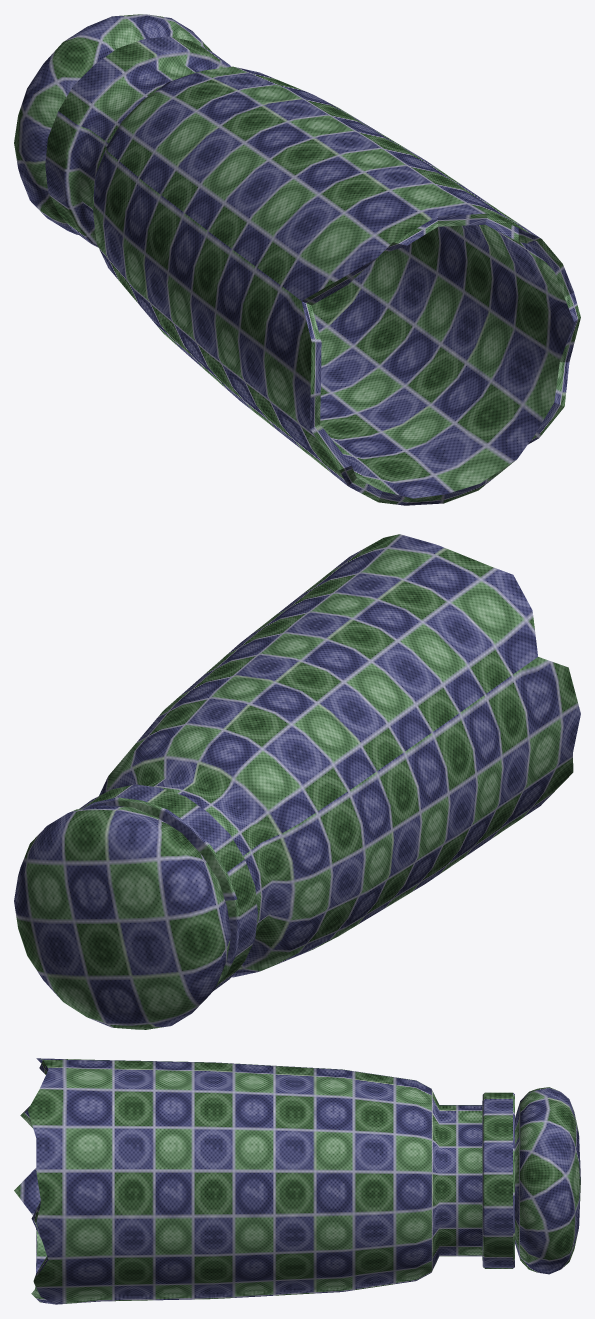
File: Bottiglia.FBX
The picture shows the model from 3 angles, top to bottom: view 1: azimuth 30°, elevation 25°; view 2: azimuth 150°, elevation 25°; view 3: azimuth 270°, elevation 25°; orthographic projection. The views are drawn at different scales.
Visible parts, largest first — view 1: pCylinder004; view 2: pCylinder004; view 3: pCylinder004.
Part boxes in pixels (<box>): pCylinder004: <box>14,14,580,505</box>; pCylinder004: <box>14,534,580,1029</box>; pCylinder004: <box>14,1058,580,1304</box>.
Size of the model in its own units: 24.45 by 24.45 by 56.44.
1 material, 1 textured.
